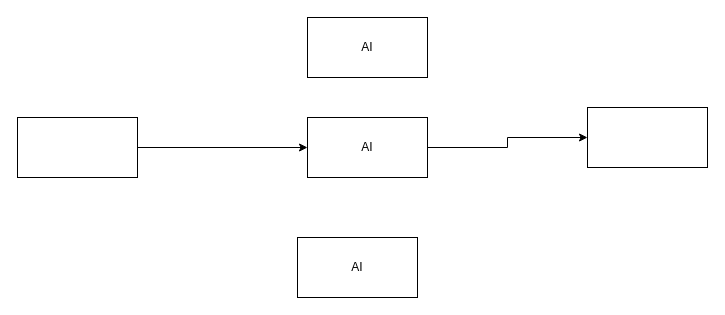
The diagram is 725 pixels wide and 315 high, and some of its shapes have lost their labels. Here are the shapes that lost their labels. From the top down, the centre of each, then its label:
At [77,147]: "Input (prompt, Attachment)".
At [647,137]: "Output (Mucrosoft Word)".
